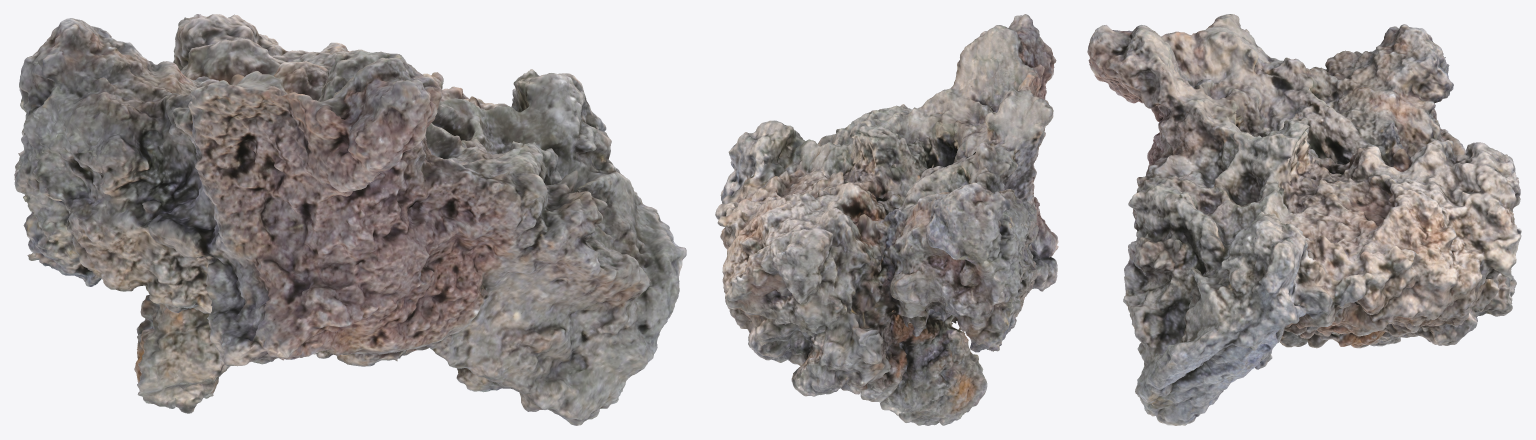
File: igneousrocks.glb
3 renders of one model, left to right at view 1: azimuth 30°, elevation 25°; view 2: azimuth 150°, elevation 25°; view 3: azimuth 270°, elevation 25°, orthographic. The views are drawn at different scales.
Parts seen in each view (by area): view 1: Object_4, Object_3, Object_2, Object_5; view 2: Object_2, Object_3, Object_4, Object_5; view 3: Object_4, Object_2, Object_3, Object_5.
Boxes of the visible parts, bbox=[...] form: Object_4: bbox=[26, 50, 686, 425]; Object_3: bbox=[65, 17, 521, 413]; Object_2: bbox=[14, 14, 517, 411]; Object_5: bbox=[106, 42, 493, 411]; Object_2: bbox=[715, 142, 1037, 425]; Object_3: bbox=[720, 14, 1058, 425]; Object_4: bbox=[716, 16, 1058, 375]; Object_5: bbox=[717, 87, 1057, 362]; Object_4: bbox=[1087, 25, 1511, 425]; Object_2: bbox=[1254, 24, 1521, 348]; Object_3: bbox=[1090, 25, 1517, 369]; Object_5: bbox=[1192, 14, 1476, 347].
Size of the model in its own units: 1.54 by 1.27 by 1.49.
Materials: 1 (1 with a texture image).
